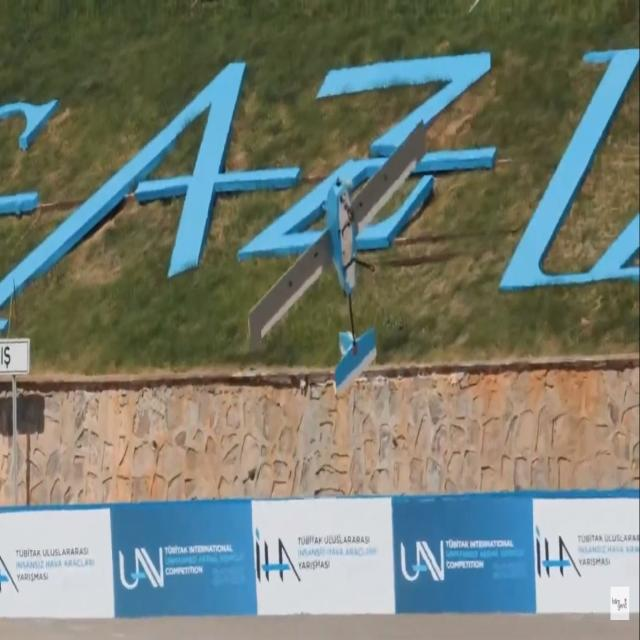iha: (246, 120, 429, 398)
